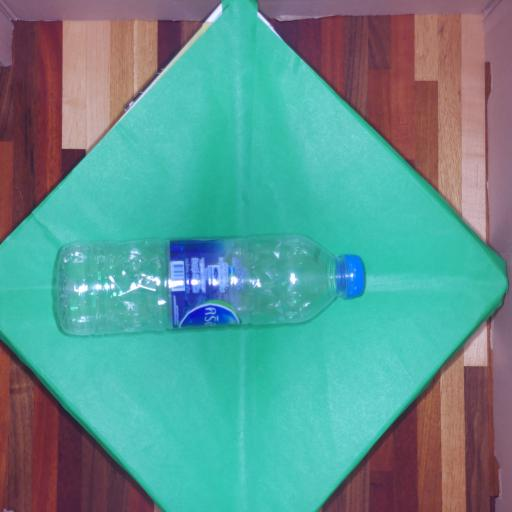bottle: (58, 236, 364, 334)
